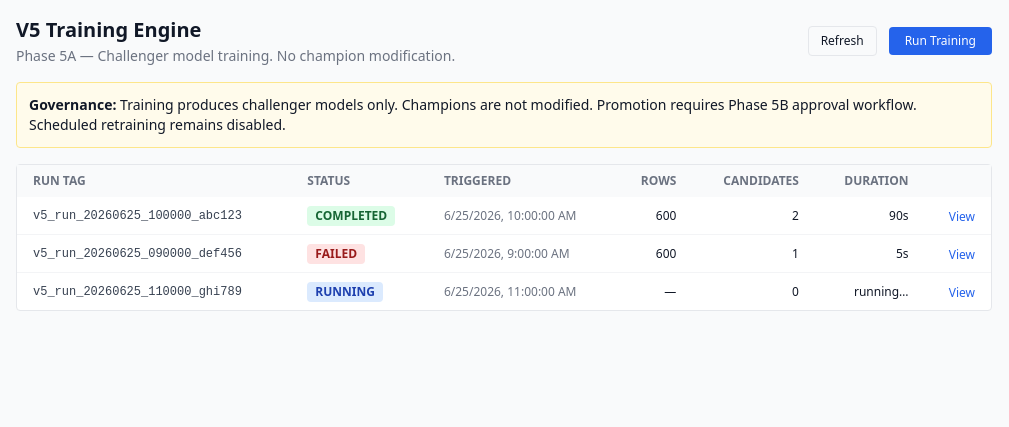
Test: TrainingPanel › clicking View loads and shows run detail panel
Click the button with test id "view-run-btn" in the row of "v5_run_20260625_100000_abc123": (962, 216) [949,208,975,224]
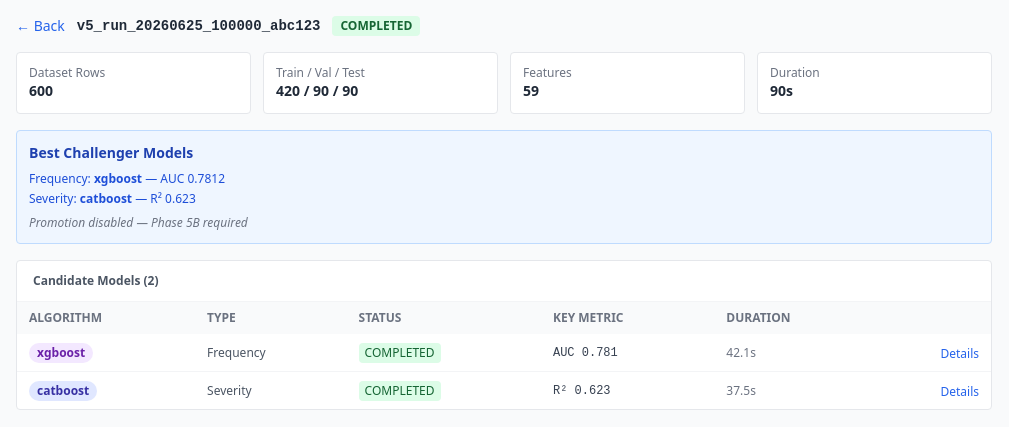
Check: the element with test id "run-detail-panel" is shown
